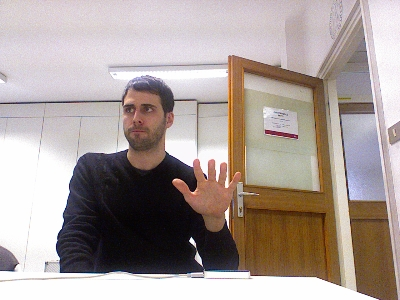布: (169, 156, 242, 217)
